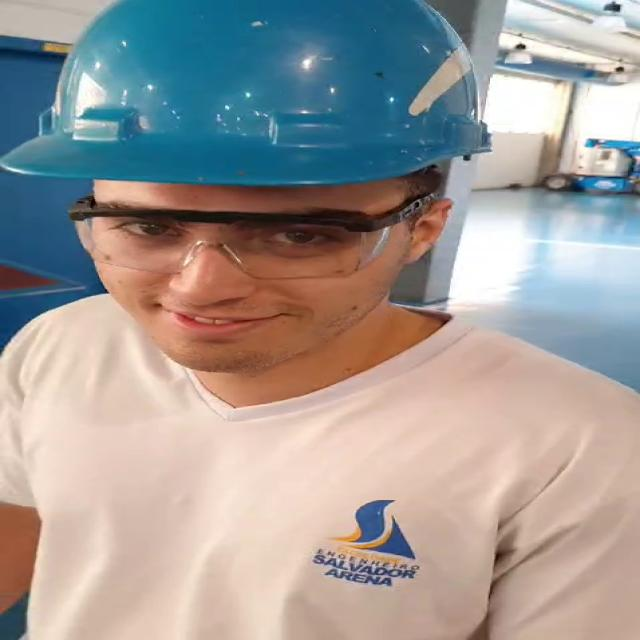oculos-epi: (70, 197, 430, 279)
